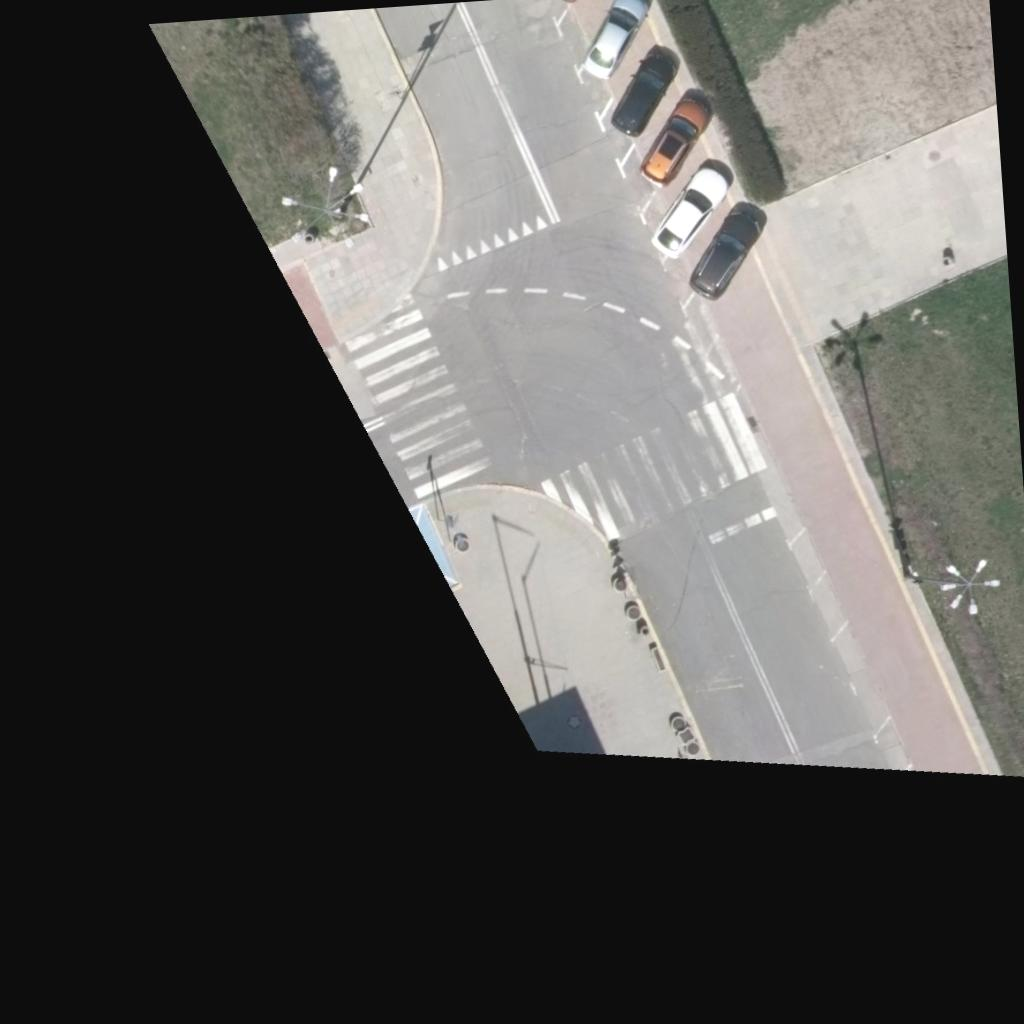samochod_osobowy: (648, 168, 732, 258), (636, 94, 716, 187), (684, 211, 766, 300), (607, 44, 683, 138), (579, 0, 654, 79)
